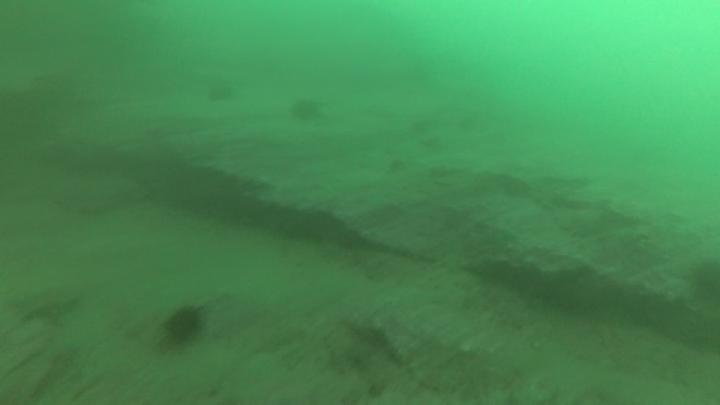echinus: (160, 302, 206, 349), (687, 256, 720, 303), (287, 94, 325, 127), (203, 76, 238, 107)
starfish: (7, 280, 83, 328)
